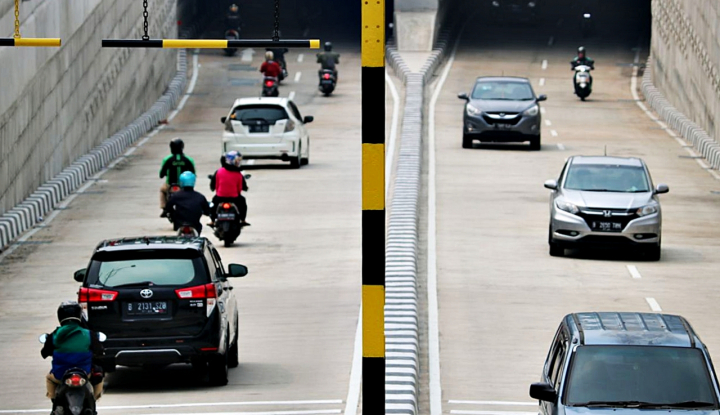plate: (125, 301, 165, 316), (591, 221, 622, 233), (247, 126, 269, 136), (492, 124, 512, 133), (217, 214, 233, 220)
